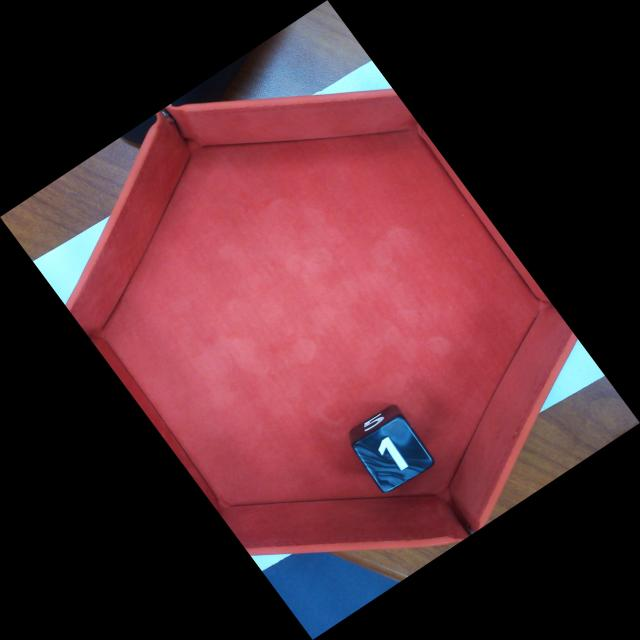dice: (353, 414, 429, 492)
